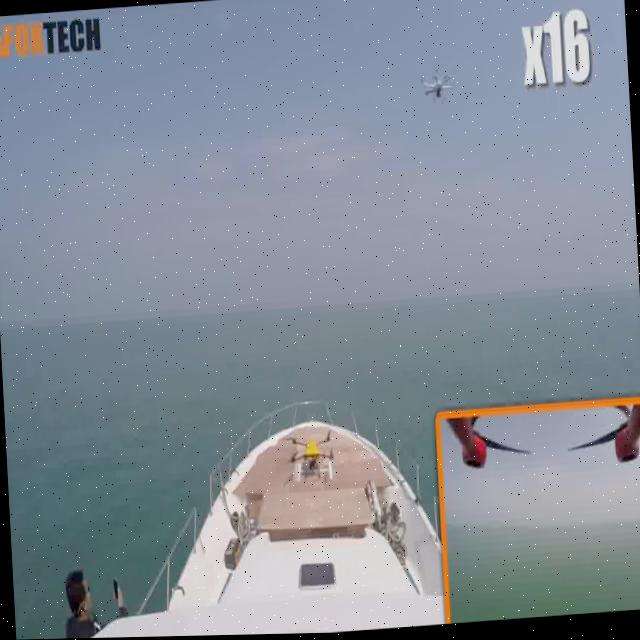drone: (281, 412, 339, 479)
